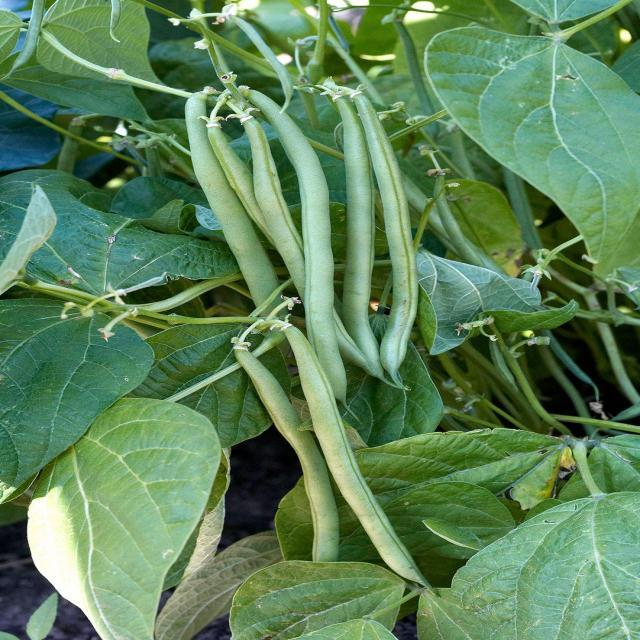Beans: (175, 76, 446, 603)
